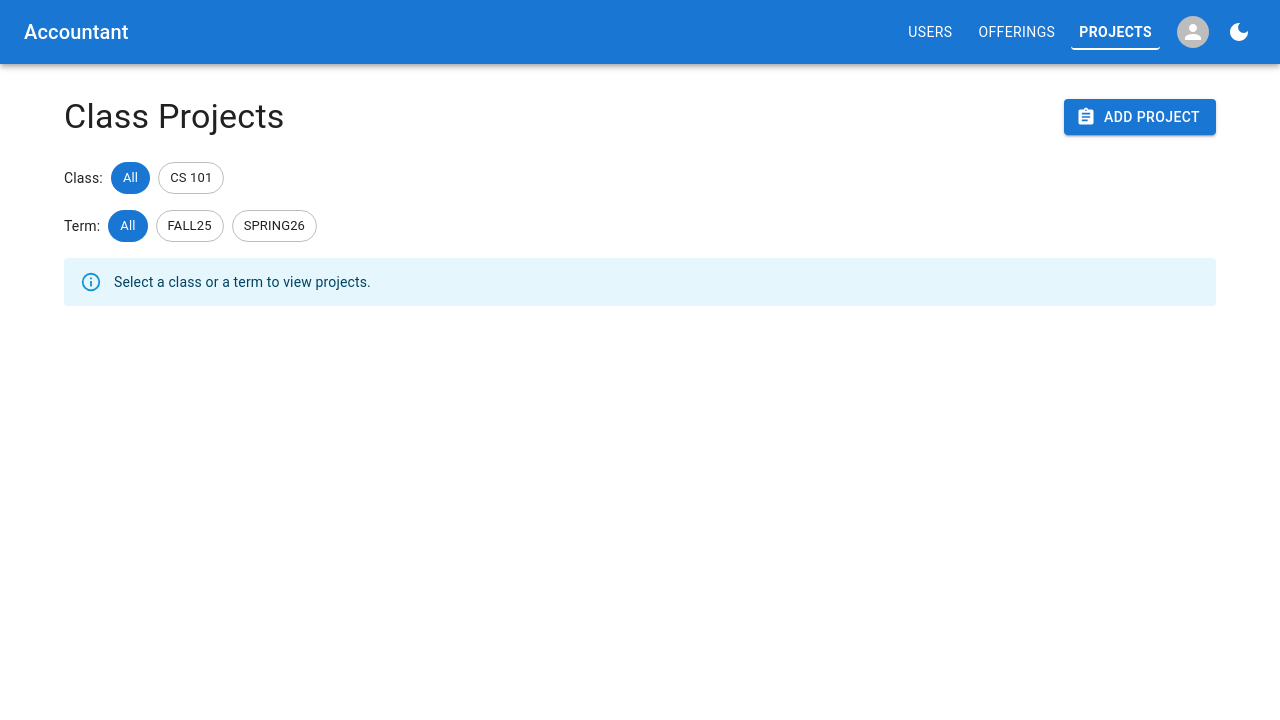
Test case: Projects page › opens the create modal from the Add Project button
Expected: the heading "Class Projects" is shown, x1=64 y1=96 x2=285 y2=138
Click the button "Add Project": {"x": 1140, "y": 117} x1=1064 y1=99 x2=1216 y2=135
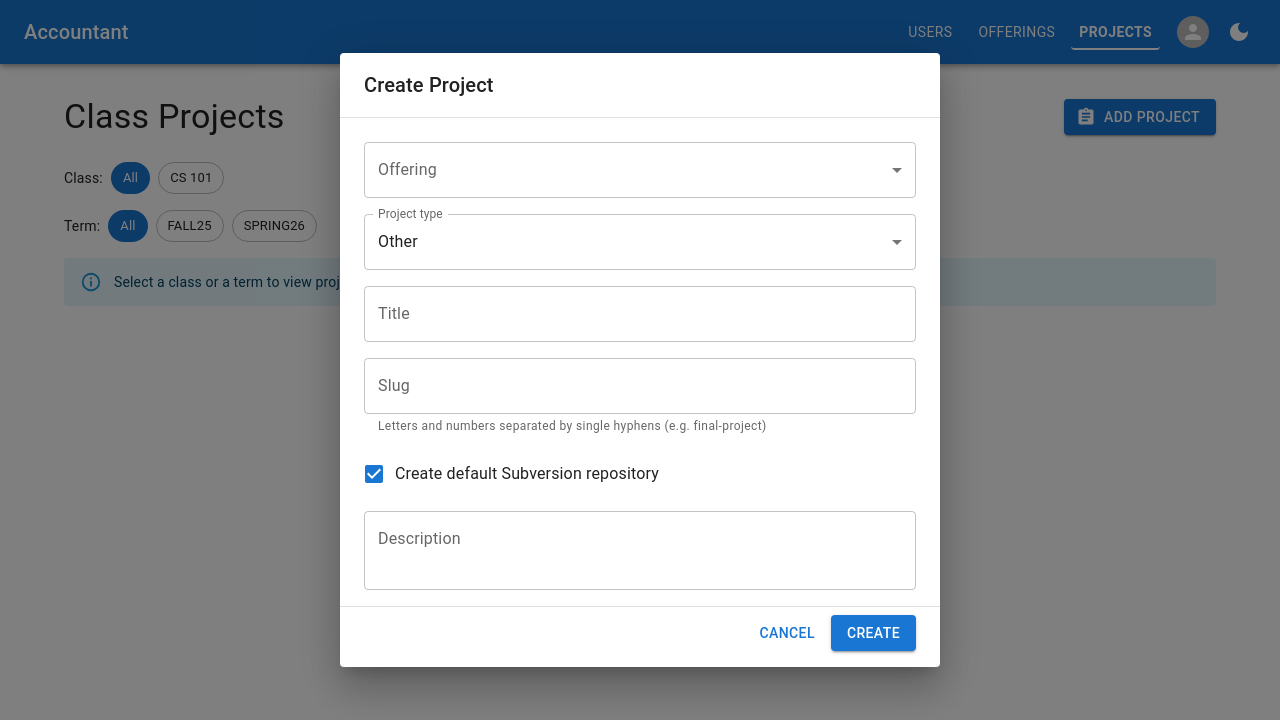
Expected: the heading "Create Project" is shown, x1=364 y1=73 x2=494 y2=97
